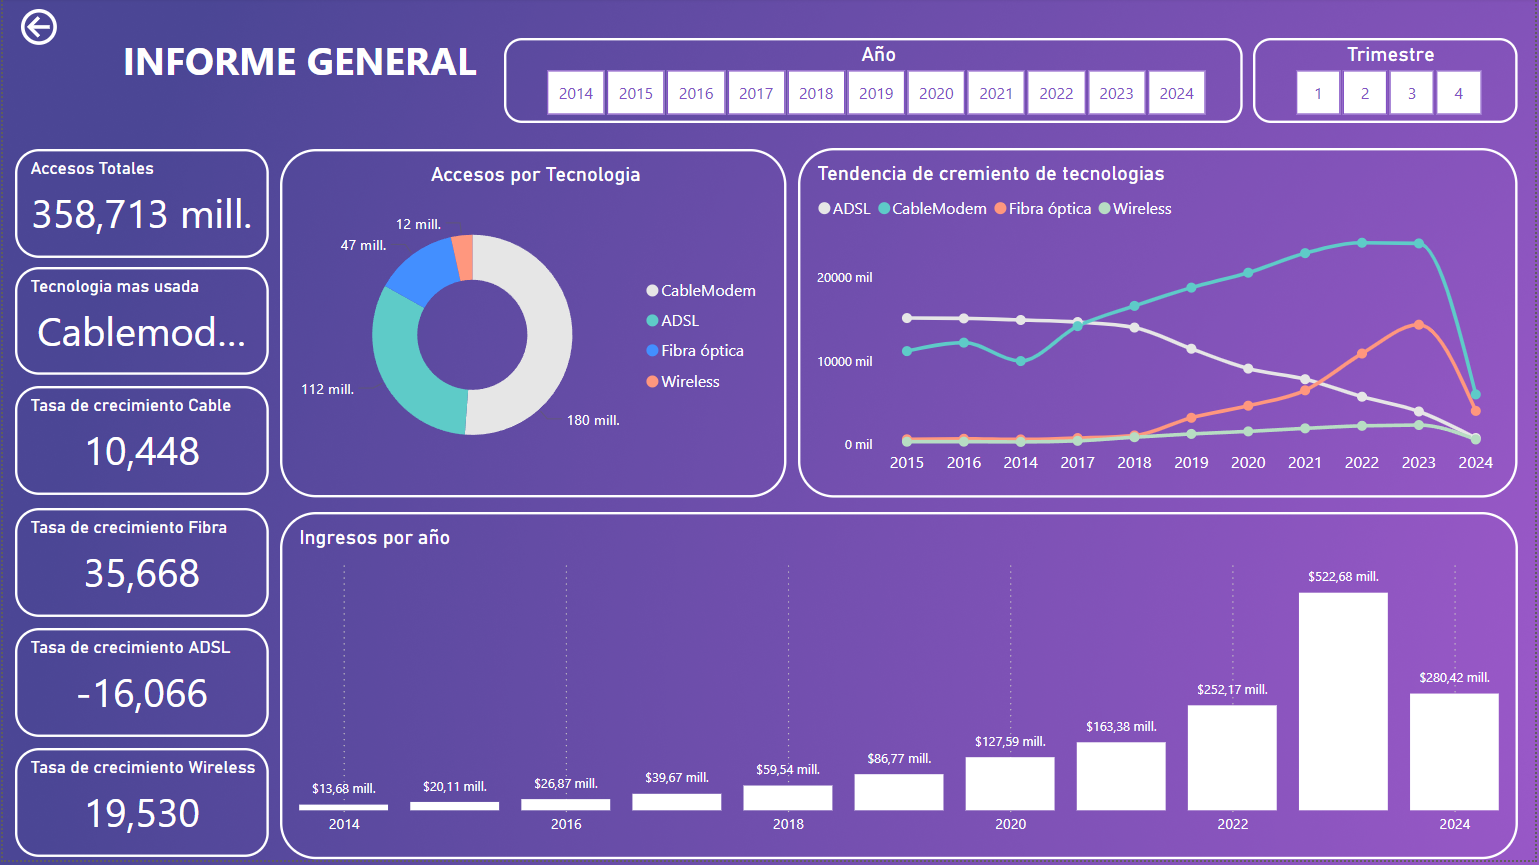

Layout of this report page (visuals, bound fields, positions):
{"tool":"powerbi","page":{"name":"Resumen General","canvas":[1280,720],"ordinal":1},"visuals":[{"type":"donutChart","title":"Accesos por Tecnologia","fields":{"Y":["accesos_totales_por_tec.Accesos CableModem","accesos_totales_por_tec.Accesos ADSL","accesos_totales_por_tec.Accesos Fibra óptica","accesos_totales_por_tec.Accesos Wireless"]},"box":[231.5,126.3,423.3,291.4],"z":0},{"type":"columnChart","title":"Ingresos por año","fields":{"Category":["Ingresos_por_año_y_trimestre.Año"],"Y":["Sum(Ingresos_por_año_y_trimestre.Ingresos (miles de pesos))"]},"box":[231.4,429.4,1034.1,290.2],"z":1000},{"type":"lineChart","title":"Tendencia de cremiento de tecnologias","fields":{"Category":["accesos_totales_por_tec.Año","accesos_totales_por_tec.Trimestre"],"Y":["accesos_totales_por_tec.Accesos ADSL","accesos_totales_por_tec.Accesos CableModem","accesos_totales_por_tec.Accesos Fibra óptica","accesos_totales_por_tec.Accesos Wireless"]},"box":[664.4,125.6,601.1,292],"z":2000},{"type":"slicer","title":"Trimestre","fields":{"Values":["accesos_totales_por_tec.Trimestre"]},"box":[1044.1,33.4,221.5,70.5],"z":3000},{"type":"card","title":"Accesos Totales","fields":{"Values":["Sum(accesos_totales_por_tec.Total)"]},"box":[9.9,126.4,211.5,90.5],"z":4000},{"type":"card","title":"Tecnologia mas usada","fields":{"Values":["accesos_totales_por_tec.Tecnologia_Mas_Usada"]},"box":[9.9,225.1,211.5,90.4],"z":5000},{"type":"card","title":"Tasa de crecimiento Cable","fields":{"Values":["Median(Tasa_Crecimiento_Tecnologias.Tasa_Crecimiento_Cablemodem)"]},"box":[9.9,324.5,211.5,90.5],"z":6000},{"type":"card","title":"Tasa de crecimiento Fibra","fields":{"Values":["Median(Tasa_Crecimiento_Tecnologias.Tasa_Crecimiento_Fibra)"]},"box":[9.9,425.8,211.5,90.5],"z":7000},{"type":"card","title":"Tasa de crecimiento ADSL","fields":{"Values":["Median(Tasa_Crecimiento_Tecnologias.Tasa_Crecimiento_ADSL)"]},"box":[9.9,526.2,211.5,90.5],"z":8000},{"type":"card","title":"Tasa de crecimiento Wireless","fields":{"Values":["Median(Tasa_Crecimiento_Tecnologias.Tasa_Crecimiento_Wireless)"]},"box":[9.9,626.6,211.5,90.5],"z":9000},{"type":"textbox","box":[75.9,24.4,343.5,56.9],"z":10000},{"type":"actionButton","box":[10,4.5,41.8,40],"z":11000},{"type":"slicer","title":"Año","fields":{"Values":["accesos_totales_por_tec.Año"]},"box":[418.7,33.2,616.9,71],"z":12000}]}

Visuals, with their boxes in screenshot pixels (x1, y1, x2, y2), scaled from the page's 1280x720 canvas onto the 1539x865 screenshot:
"Accesos por Tecnologia" donutChart: Rect(278, 152, 787, 502)
"Ingresos por año" columnChart: Rect(278, 516, 1522, 864)
"Tendencia de cremiento de tecnologias" lineChart: Rect(799, 151, 1522, 502)
"Trimestre" slicer: Rect(1255, 40, 1522, 125)
"Accesos Totales" card: Rect(12, 152, 266, 261)
"Tecnologia mas usada" card: Rect(12, 270, 266, 379)
"Tasa de crecimiento Cable" card: Rect(12, 390, 266, 499)
"Tasa de crecimiento Fibra" card: Rect(12, 512, 266, 620)
"Tasa de crecimiento ADSL" card: Rect(12, 632, 266, 741)
"Tasa de crecimiento Wireless" card: Rect(12, 753, 266, 862)
textbox: Rect(91, 29, 504, 98)
actionButton: Rect(12, 5, 62, 53)
"Año" slicer: Rect(503, 40, 1245, 125)
